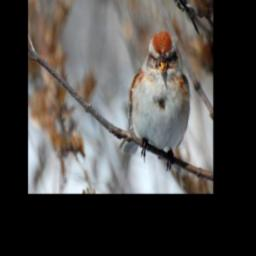Sparrow: (117, 28, 192, 176)
